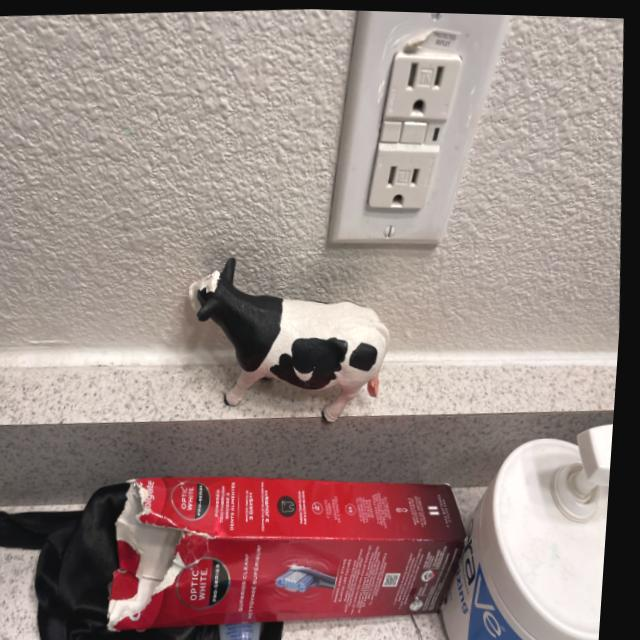cow: (161, 246, 409, 449)
